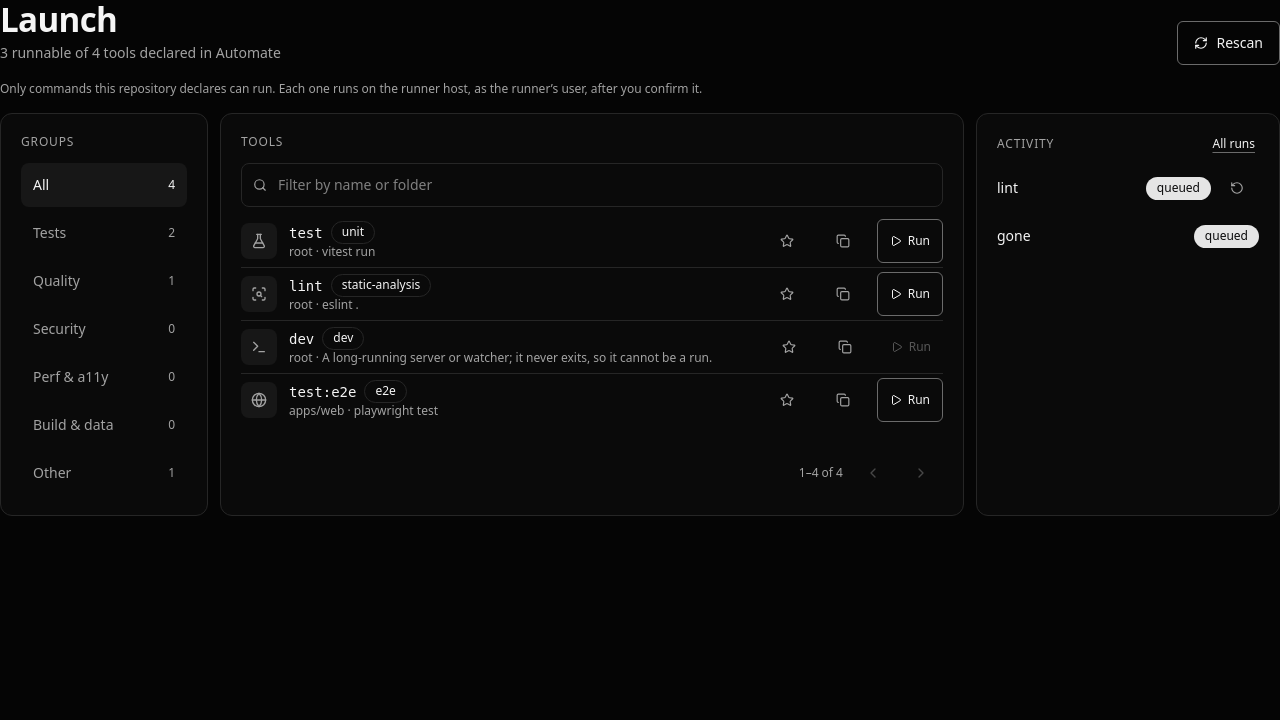
the runner, as a daily tool › runs a finished run again through the same confirmation, by the id the server stored
Step 1. Click the button named "Run pnpm run lint again" → point(1237, 188), box [1215,166,1259,210]
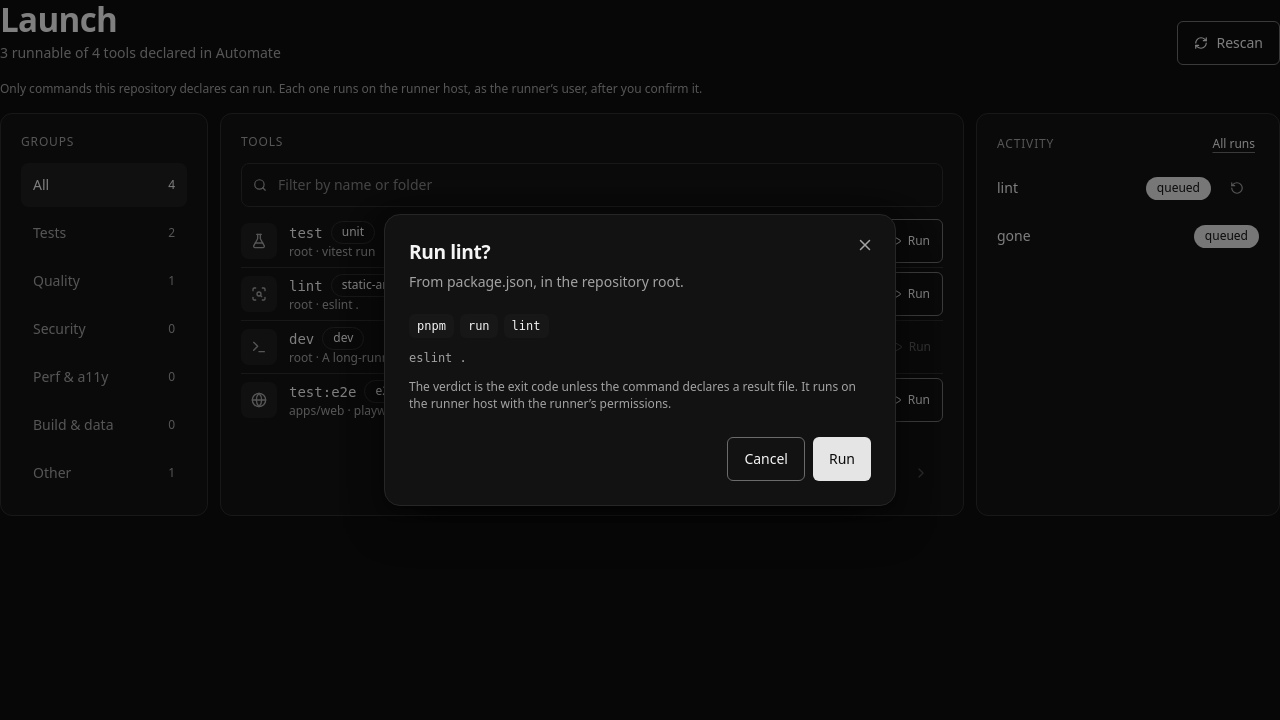
Expected: the heading "Run lint?" is shown, [409,238,490,265]
